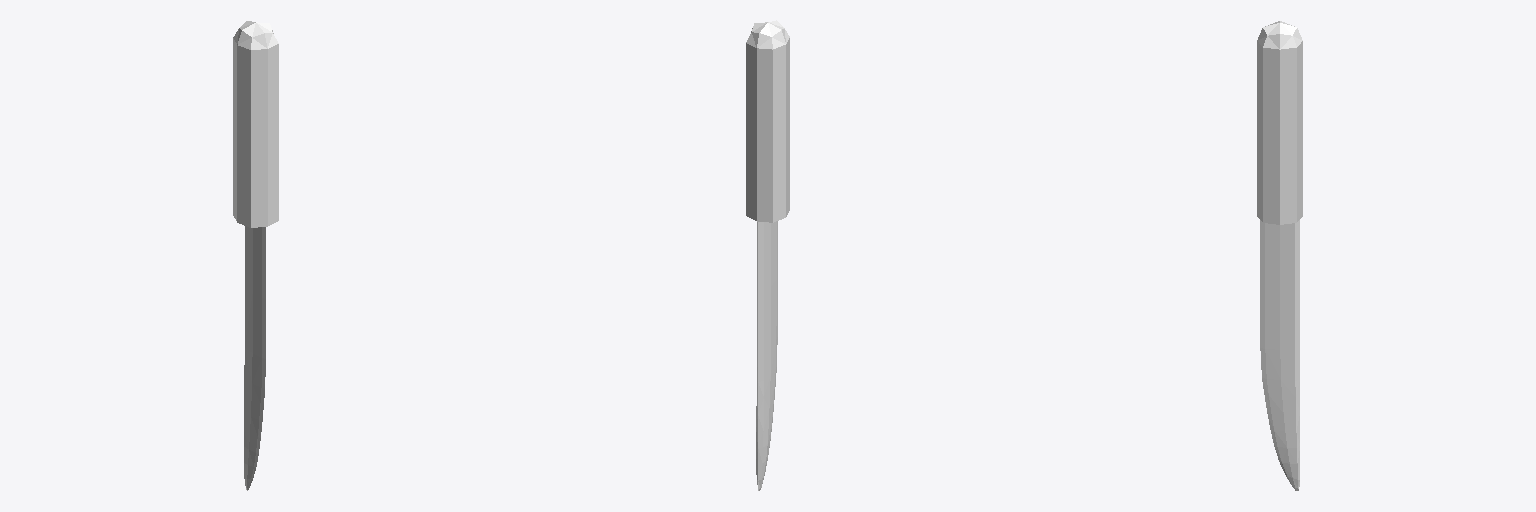
robot.urdf — knife.urdf:
<?xml version="1.0" ?>
<robot name="knife.urdf">
  <link name="handle">
    <contact>
      <lateral_friction value="1.0"/>
      <inertia_scaling value="3.0"/>
    </contact>
    <inertial>
      <origin rpy="0 0 0" xyz="0 0 0"/>
       <mass value=".1"/>
       <inertia ixx="1" ixy="0" ixz="0" iyy="1" iyz="0" izz="1"/>
    </inertial>
    <visual>
      <origin rpy="0 0 0" xyz="0 0 0"/>
      <geometry>
        <mesh filename="knife_handle.obj" scale=".02 .02 .02"/>
      </geometry>
       <material name="">
        <color rgba="1 1 1 1"/>
      </material>
    </visual>
    <collision>
        <contact_coefficient mu="2000" />
      <origin rpy="0 0 0" xyz="0 0 0"/>
      <geometry>
	 	<mesh filename="knife_handle.obj" scale=".021 .021 .021"/>
      </geometry>
    </collision>
  </link>
  <joint name="handle_to_blade_joint" type="fixed">
      <origin rpy="0 0 0" xyz="0 0 0"/>
      <parent link="handle"/>
      <child link="blade"/>
  </joint>
  <link name="blade">
    <contact>
      <lateral_friction value="1.0"/>
      <inertia_scaling value="3.0"/>
    </contact>
    <inertial>
      <origin rpy="0 0 0" xyz="0 0 0"/>
       <mass value=".1"/>
       <inertia ixx="1" ixy="0" ixz="0" iyy="1" iyz="0" izz="1"/>
    </inertial>
    <visual>
      <origin rpy="0 0 0" xyz="0 0 0"/>
      <geometry>
        <mesh filename="knife_blade.obj" scale=".02 .02 .02"/>
      </geometry>
       <material name="">
        <color rgba="1 1 1 1"/>
      </material>
    </visual>
    <collision>
      <origin rpy="0 0 0" xyz="0 0 0"/>
      <geometry>
	 	<mesh filename="knife_blade.obj" scale=".02 .02 .02"/>
      </geometry>
    </collision>
  </link>
</robot>

--- What the picture shows (computed from the rendered views, not written in the file) ---
Views: 3 orthographic renders of the robot side by side, from view 1: azimuth 30°, elevation 25°; view 2: azimuth 150°, elevation 25°; view 3: azimuth 270°, elevation 25°.
Model knife.urdf with 2 links and 1 joints (1 fixed), rooted at handle, posed all joints at 0.
Visible links, largest first — view 1: handle, blade; view 2: handle, blade; view 3: blade, handle.
Boxes of the visible links, x1,y1,x2,y2 form: handle: (233,21,278,227); blade: (244,226,265,490); handle: (746,20,789,222); blade: (756,221,777,490); blade: (1260,220,1299,490); handle: (1257,21,1302,224).
Size in the robot's own frame: 0.0281 by 0.0304 by 0.3425 metres.
2 mesh visuals loaded from 2 distinct referenced files (2 OBJ).